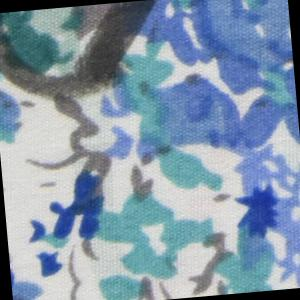Stain: (1, 1, 173, 116)
